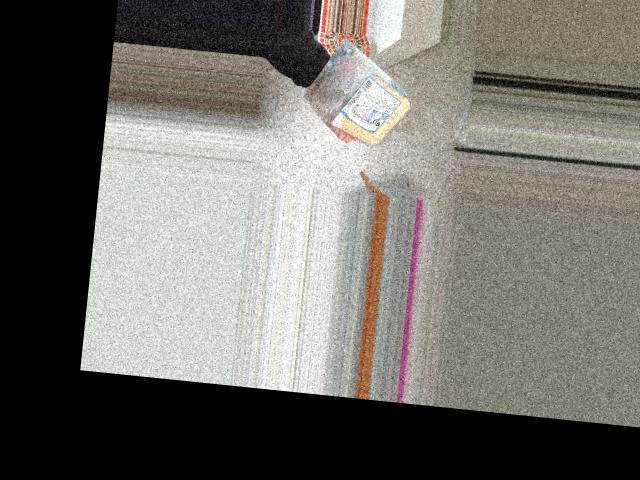cheese: (316, 78, 414, 139)
